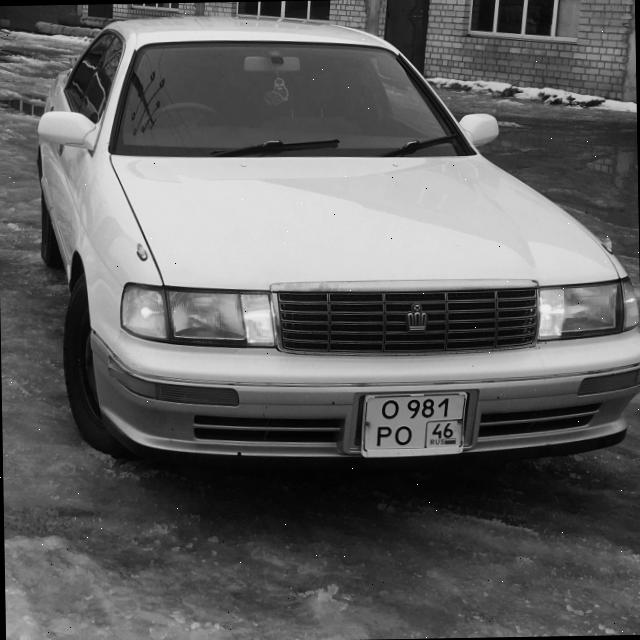number-plates: (358, 390, 468, 462)
